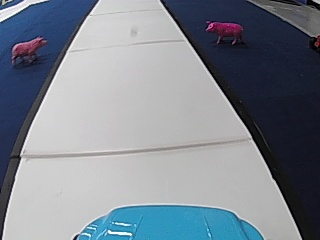pig: (9, 34, 46, 66), (203, 18, 244, 45)
